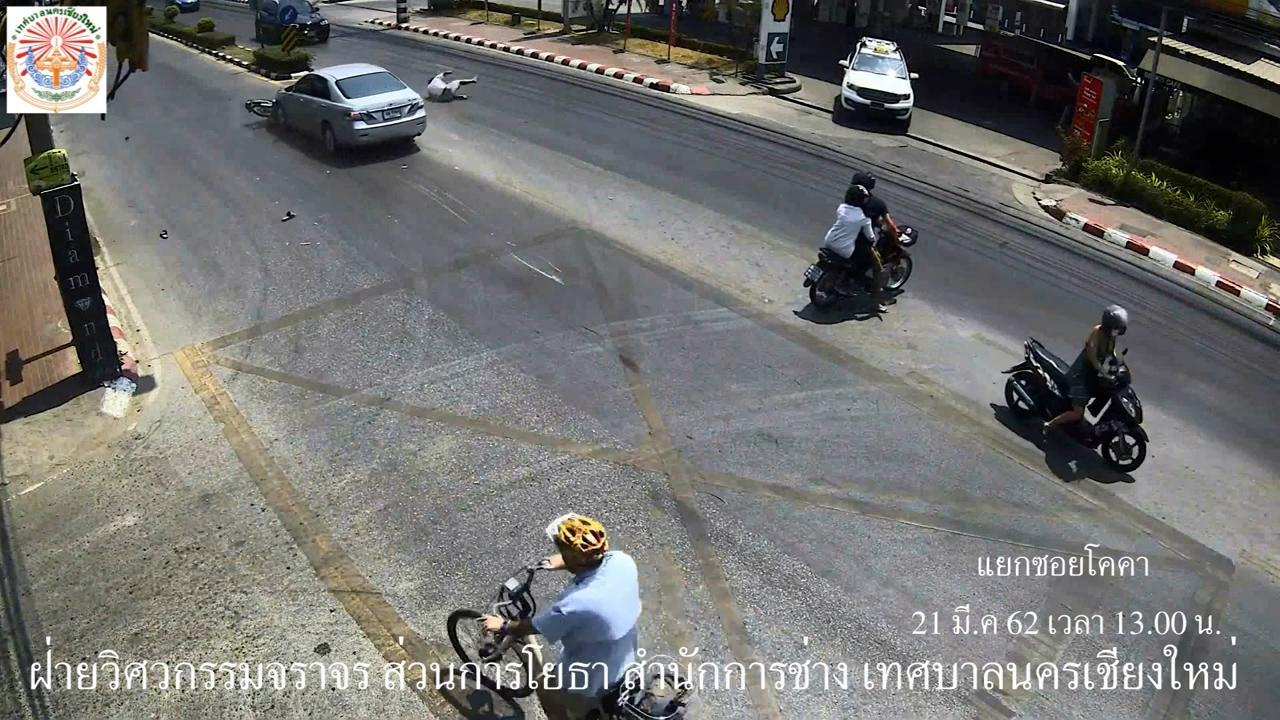accident: (420, 67, 480, 105)
